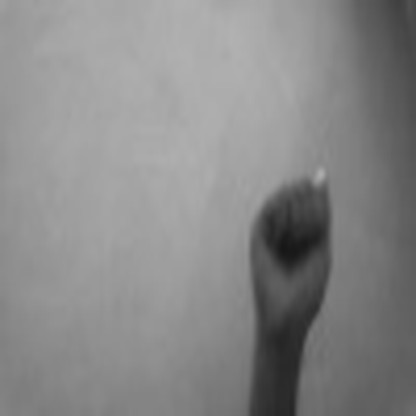a: (244, 166, 341, 334)
